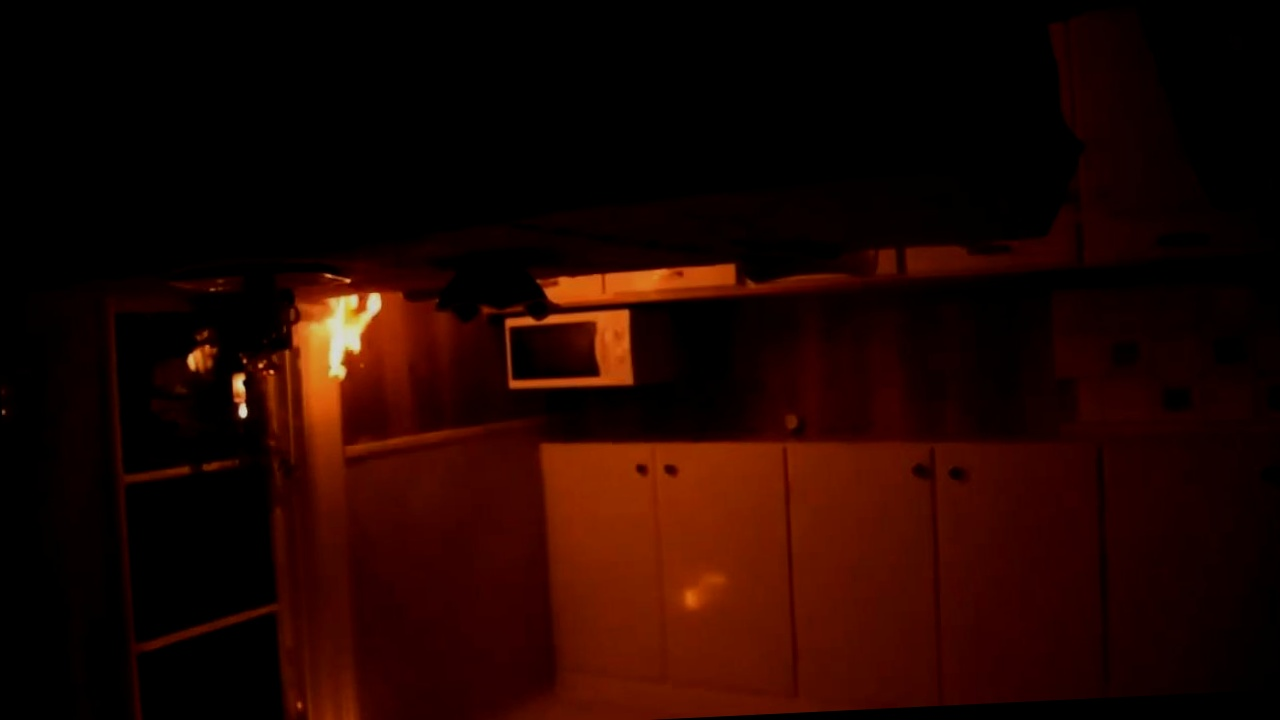fire: (286, 279, 399, 396)
